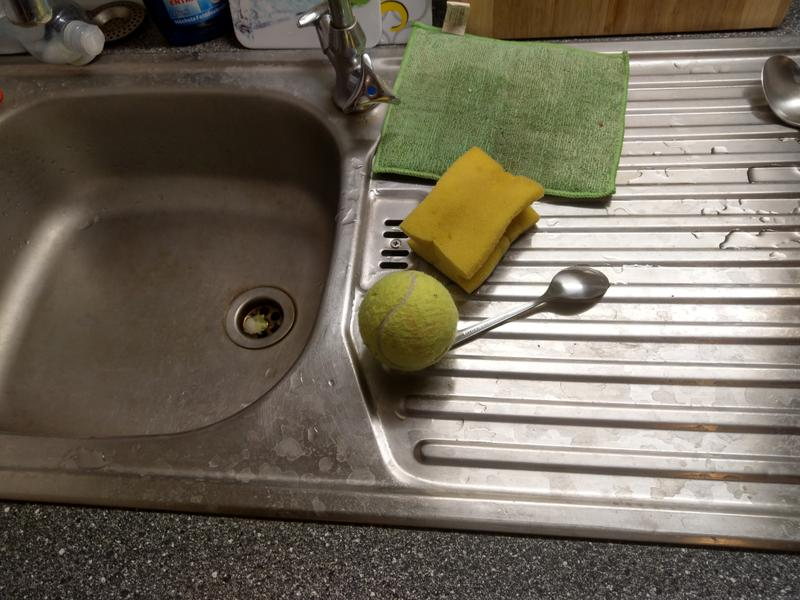Tennisball: (357, 266, 460, 377)
